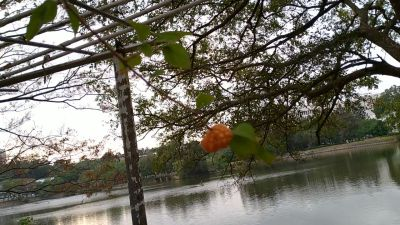eggs: (200, 121, 233, 153)
